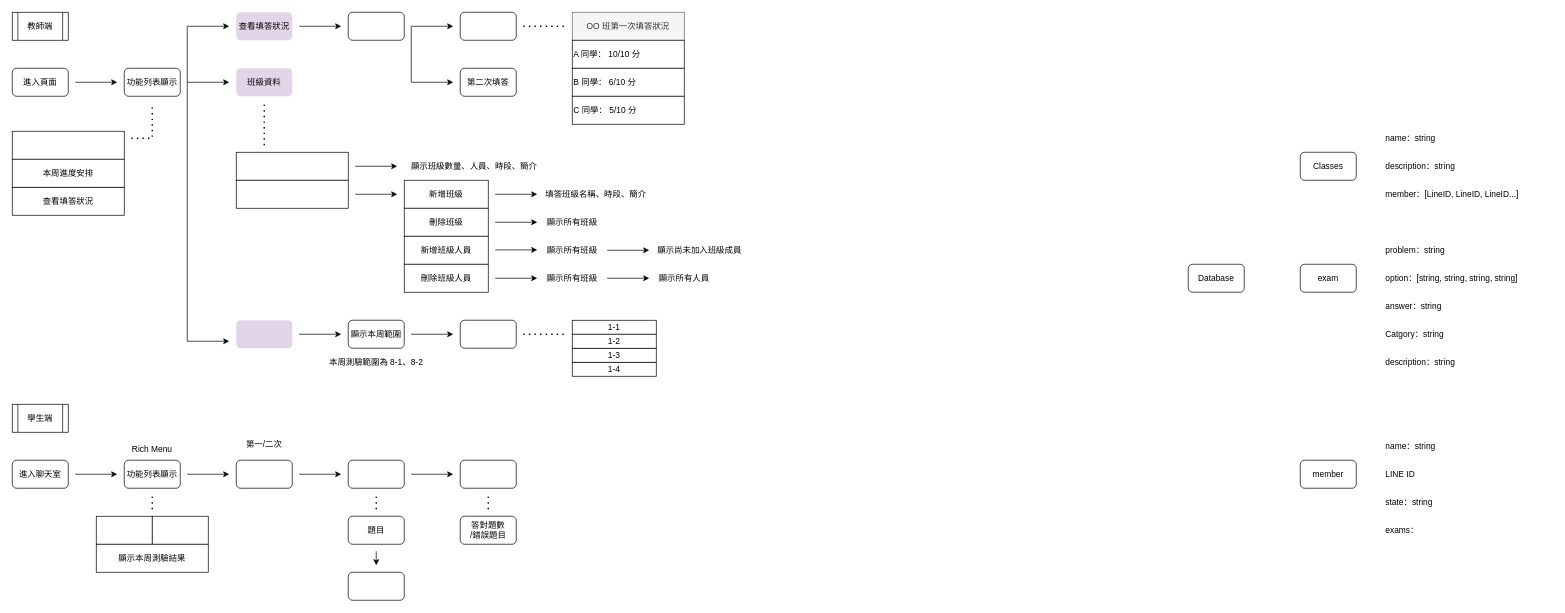
Image size: 1565x613. Some labels were removed from this diagram. The shapes that lost their labels are listed below. From the top down, each one's centre as x and y in pixels, then its label:
[376,26]: 選擇班級
[488,26]: 第一次填答
[68,145]: 班級資訊
[292,166]: 查看所有班級
[292,194]: 班級管理
[264,334]: 進度安排
[488,334]: 選擇本周測驗
[264,474]: 選取測驗
[376,474]: 十題測試
[488,474]: 顯示測驗結果
[124,530]: 第一次測驗
[180,530]: 第二次測驗
[376,586]: 選項
